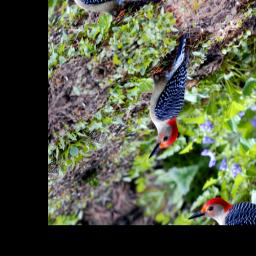Woodpecker: (106, 31, 231, 161)
